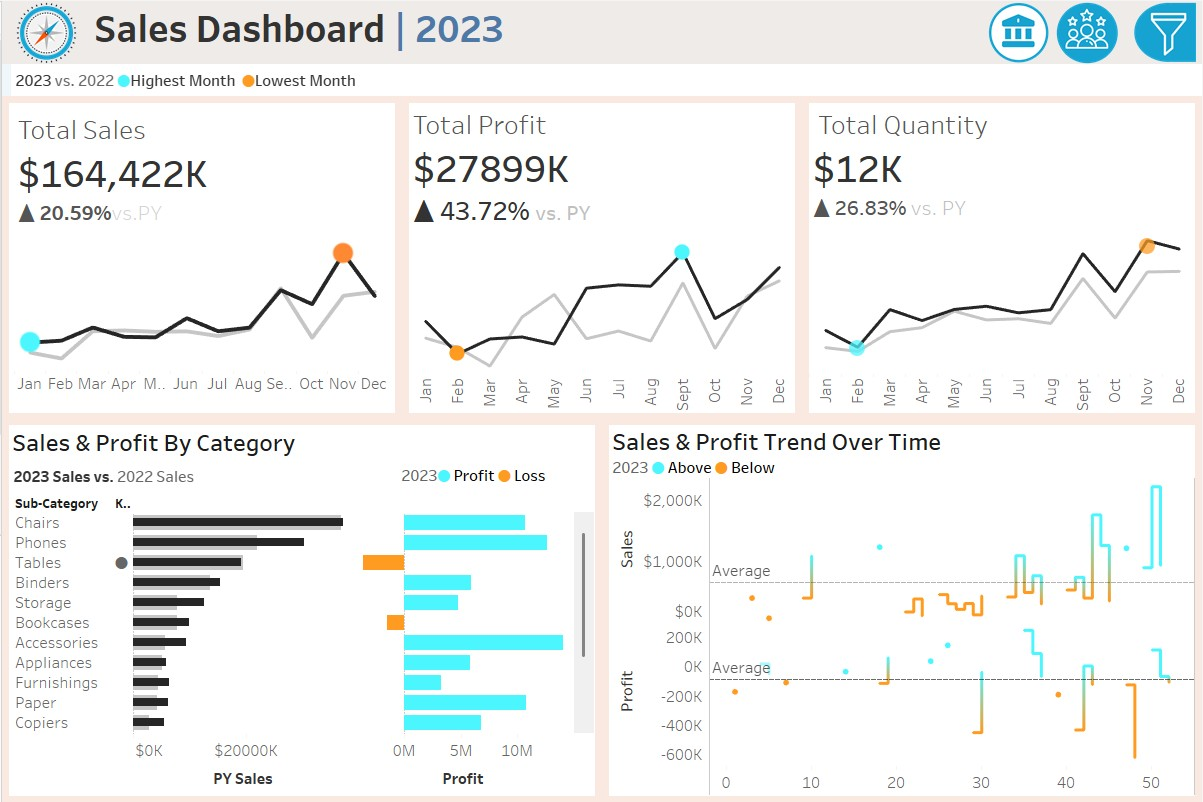

Layout of this report page (visuals, bound fields, positions):
{"tool":"tableau","page":{"name":"Sales Dashboard","canvas":[1000,1000],"units":"permille","ordinal":1},"visuals":[{"type":"image","param":"Image/Icon - Logo.png","box":[0,0,74.2,78.5]},{"type":"text","box":[74.2,0,747.5,64.8]},{"type":"dashboard-object","box":[821.7,0,50.8,78.5]},{"type":"dashboard-object","box":[872.5,0,63.8,78.5]},{"type":"dashboard-object","box":[936.2,0,63.8,78.5]},{"type":"text","box":[778.3,72.3,218.3,47.4]},{"type":"worksheet","title":"Legend KPI","mark":"Automatic","box":[0,78.5,1000,39.9]},{"type":"worksheet","title":"Total sales","mark":"Circle","rows":["Calculation_901282875717255172"],"cols":["Order Date"],"box":[0,118.5,333.3,395.3]},{"type":"worksheet","title":"Total profit","mark":"Automatic","rows":["Calculation_36310272581787656"],"cols":["Order Date"],"box":[333.3,118.5,333.3,395.3]},{"type":"worksheet","title":"Quantity","mark":"Automatic","rows":["Calculation_36310272586240012"],"cols":["Order Date"],"box":[666.7,118.5,333.3,395.3]},{"type":"parameter","param":"[Parameters].[Parameter 1]","box":[778.3,119.7,218.3,91]},{"type":"blank","box":[778.3,210.7,218.3,38.7]},{"type":"text","box":[778.3,249.4,218.3,53.6]},{"type":"filter","title":"Total sales","param":"[federated.1hs0wlf1d74wcv13tm1j41uekbno].[none:Category:nk]","box":[778.3,303,218.3,76.1]},{"type":"filter","title":"Total sales","param":"[federated.1hs0wlf1d74wcv13tm1j41uekbno].[none:Sub-Category:nk]","box":[778.3,379.1,218.3,99.8]},{"type":"text","box":[778.3,478.8,218.3,44.9]},{"type":"text","box":[5.8,522.5,488.3,48.7]},{"type":"text","box":[505.8,522.5,488.3,46.1]},{"type":"filter","title":"Total sales","param":"[federated.1hs0wlf1d74wcv13tm1j41uekbno].[none:Region:nk]","box":[778.3,523.7,218.3,76.1]},{"type":"text","box":[505.8,568.6,488.3,26.2]},{"type":"worksheet","title":"Legend Sub category ","mark":"Automatic","box":[5.8,571.1,324.2,41.1]},{"type":"text","box":[330,571.1,164.2,41.1]},{"type":"worksheet","title":"Weekly trend","mark":"Automatic","rows":["Calculation_901282875675045888","Calculation_36310272577564675"],"cols":["Order Date"],"box":[505.8,594.8,488.3,396.5]},{"type":"filter","title":"Total sales","param":"[federated.1hs0wlf1d74wcv13tm1j41uekbno].[none:State:nk]","box":[778.3,599.8,218.3,76.1]},{"type":"worksheet","title":"Sub category","mark":"Bar","rows":["Sub-Category","Calculation_1197676026536034304"],"cols":["Calculation_901282875675807745","Calculation_901282875675045888","Profit"],"box":[5.8,612.2,488.3,379.1]},{"type":"filter","title":"Total sales","param":"[federated.1hs0wlf1d74wcv13tm1j41uekbno].[none:City:nk]","box":[778.3,675.9,218.3,76.1]}]}

Visuals, with their boxes on the dashboard's canvas, which has no fixed pixel size, in thousandths of its width and height (x1, y1, x2, y2). These are canvas units, not pixel positions in the 1203x802 screenshot, which may show the page scaled, cropped or inside an application window:
image: bbox=[0, 0, 74, 78]
text: bbox=[74, 0, 822, 65]
dashboard-object: bbox=[822, 0, 872, 78]
dashboard-object: bbox=[872, 0, 936, 78]
dashboard-object: bbox=[936, 0, 1000, 78]
text: bbox=[778, 72, 997, 120]
"Legend KPI" worksheet: bbox=[0, 78, 1000, 118]
"Total sales" worksheet (Circle marks): bbox=[0, 118, 333, 514]
"Total profit" worksheet: bbox=[333, 118, 667, 514]
"Quantity" worksheet: bbox=[667, 118, 1000, 514]
parameter: bbox=[778, 120, 997, 211]
blank: bbox=[778, 211, 997, 249]
text: bbox=[778, 249, 997, 303]
"Total sales" filter: bbox=[778, 303, 997, 379]
"Total sales" filter: bbox=[778, 379, 997, 479]
text: bbox=[778, 479, 997, 524]
text: bbox=[6, 522, 494, 571]
text: bbox=[506, 522, 994, 569]
"Total sales" filter: bbox=[778, 524, 997, 600]
text: bbox=[506, 569, 994, 595]
"Legend Sub category " worksheet: bbox=[6, 571, 330, 612]
text: bbox=[330, 571, 494, 612]
"Weekly trend" worksheet: bbox=[506, 595, 994, 991]
"Total sales" filter: bbox=[778, 600, 997, 676]
"Sub category" worksheet (Bar marks): bbox=[6, 612, 494, 991]
"Total sales" filter: bbox=[778, 676, 997, 752]
